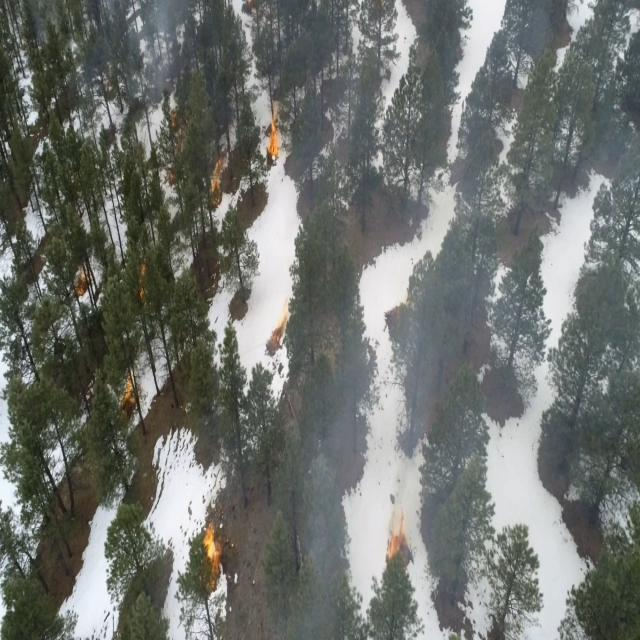Fire: (381, 496, 414, 585), (189, 518, 229, 590), (260, 291, 294, 353), (258, 101, 284, 182), (203, 145, 234, 208), (64, 263, 98, 302), (116, 364, 136, 426), (168, 148, 188, 192), (136, 268, 151, 320), (166, 100, 188, 134)
